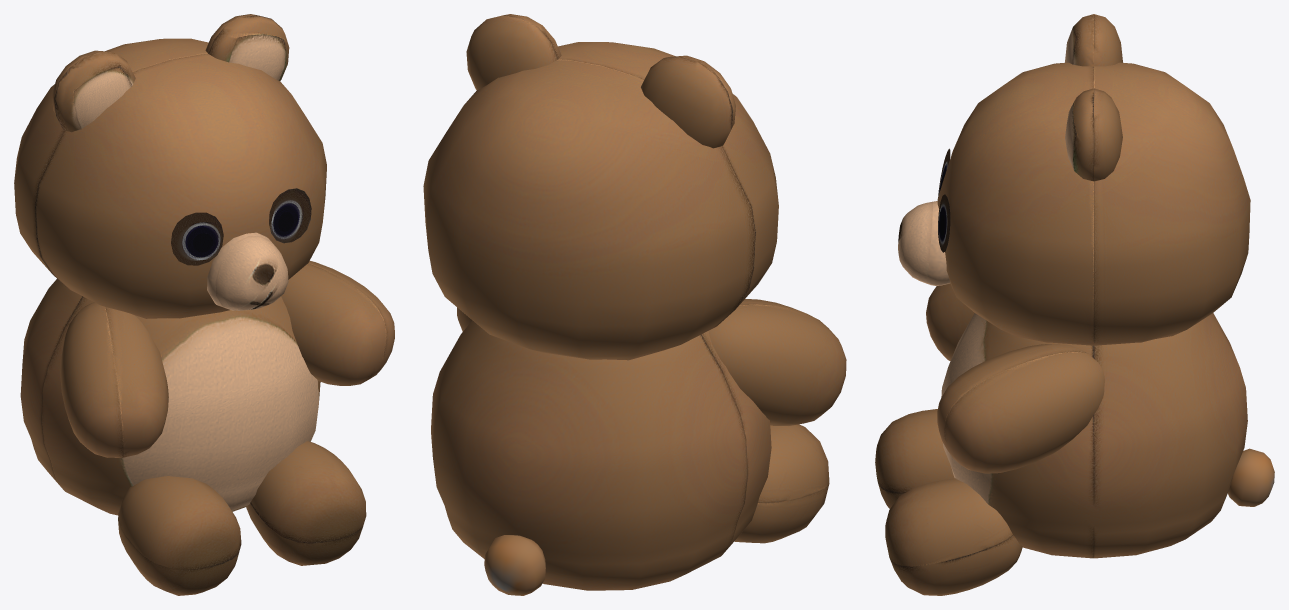
The model's file is Teddy.FBX.
3 views of the same model, side by side, from view 1: azimuth 30°, elevation 25°; view 2: azimuth 150°, elevation 25°; view 3: azimuth 270°, elevation 25° (orthographic). The views are drawn at different scales.
Visible parts, largest first — view 1: Cube; view 2: Cube; view 3: Cube.
Part boxes in pixels (x1=…): Cube: x1=14, y1=14, x2=394, y2=595; Cube: x1=423, y1=14, x2=846, y2=595; Cube: x1=875, y1=14, x2=1274, y2=595.
Bounding box in the file's own units: 19.08 × 27.78 × 20.07.
1 material, 1 textured.
